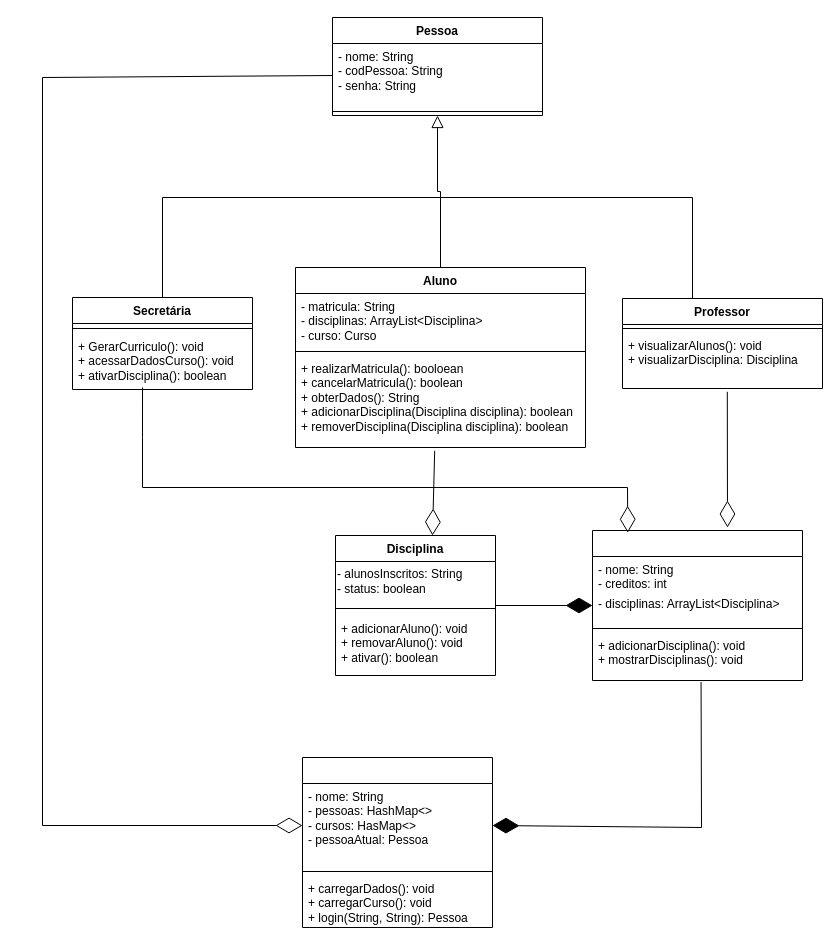
Image size: 840x948. Some labels were removed from this diagram. Here are the shapes that lost their labels. From the top down, the box of each, then its label:
(592, 530, 802, 680): Curso
(302, 756, 492, 928): Universidade
